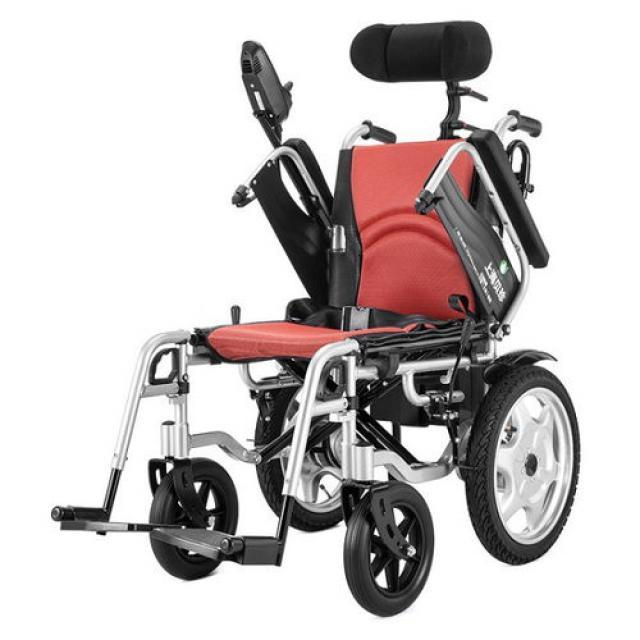wheelchair: (31, 18, 574, 639)
